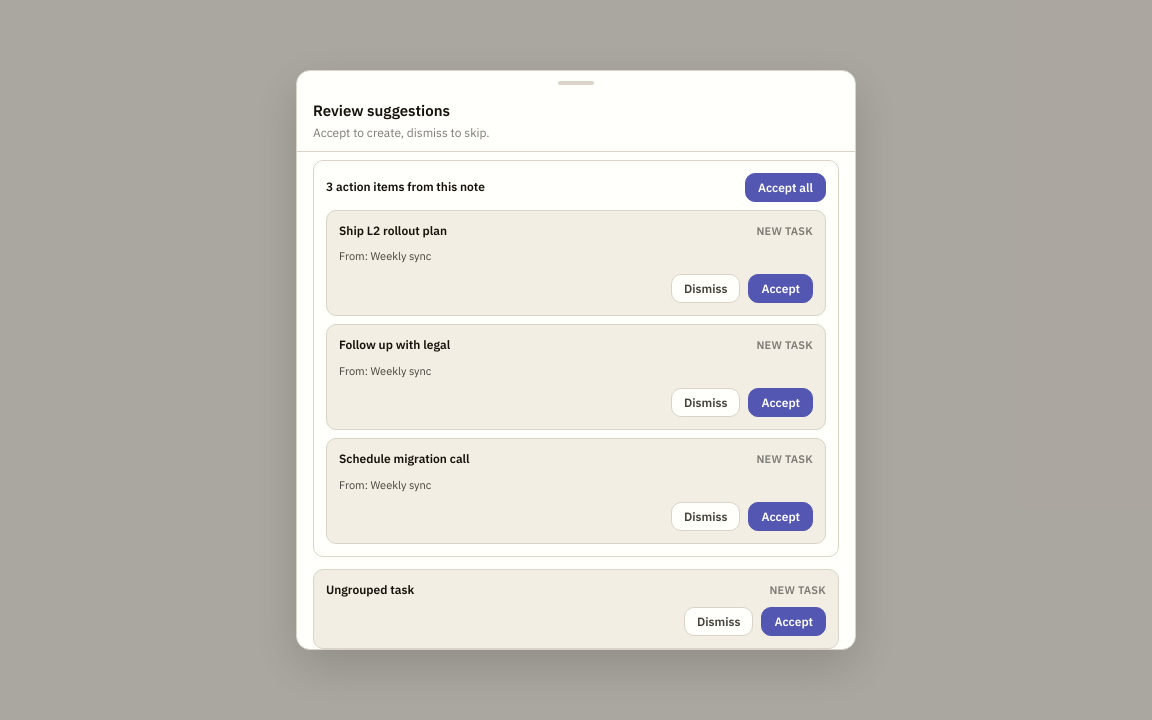
Test: V5ReviewSheet › accepts all grouped suggestions and refreshes summary
The width and height of the screenshot is (1152, 720).
Check: the text "3 action items from this note" is shown, box [326,178,485,196]
Click the button "Accept all". click: (785, 187)
box: [745,173,826,202]
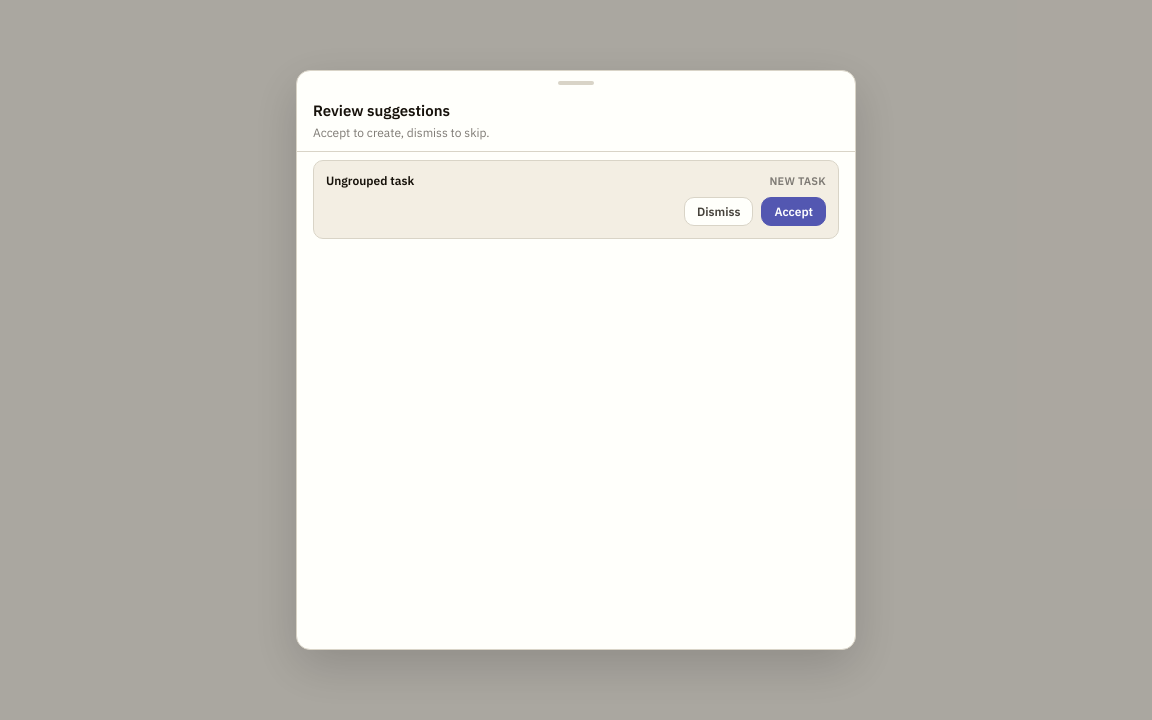
Check: the heading "Ship L2 rollout plan" is gone
Check: the heading "Follow up with legal" is gone
Check: the heading "Schedule migration call" is gone
